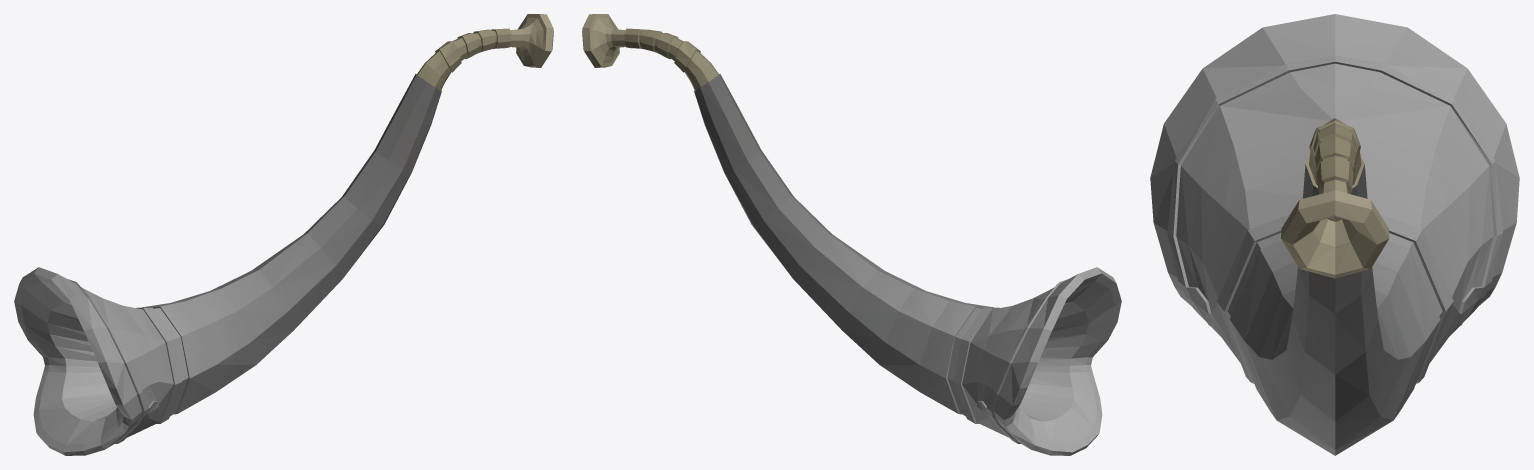
The model's file is CharSkyNPC_Prop_Horn.glb.
3 renders of one model, left to right at view 1: azimuth 30°, elevation 25°; view 2: azimuth 150°, elevation 25°; view 3: azimuth 270°, elevation 25°, orthographic. The views are drawn at different scales.
Parts seen in each view (by area): view 1: CharSkyNPC_Prop_Horn; view 2: CharSkyNPC_Prop_Horn; view 3: CharSkyNPC_Prop_Horn.
Boxes of the visible parts, left/top/right/bottom form: CharSkyNPC_Prop_Horn: left=14, top=14, right=553, bottom=455; CharSkyNPC_Prop_Horn: left=582, top=14, right=1121, bottom=455; CharSkyNPC_Prop_Horn: left=1150, top=14, right=1519, bottom=455.
Bounding box in the file's own units: 6.88 × 4.13 × 2.31.
1 material, 1 textured.
